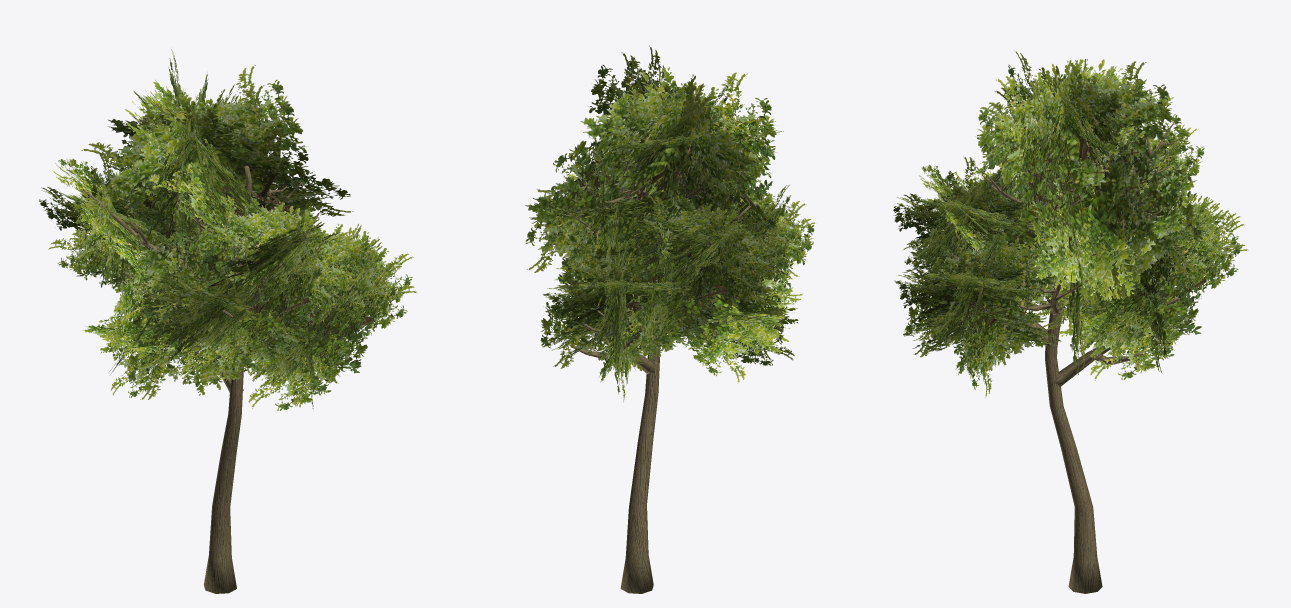
The model's file is POHON2_LOD.fbx.
3 renders of one model, left to right at view 1: azimuth 30°, elevation 25°; view 2: azimuth 150°, elevation 25°; view 3: azimuth 270°, elevation 25°, orthographic.
Parts seen in each view (by area): view 1: POHON2_LOD0; view 2: POHON2_LOD0; view 3: POHON2_LOD0.
Part boxes in pixels (<box>): POHON2_LOD0: <box>39,49,417,593</box>; POHON2_LOD0: <box>525,45,815,593</box>; POHON2_LOD0: <box>893,50,1248,593</box>.
Size of what is drawn, in the model's own units: 417 by 670 by 456.
